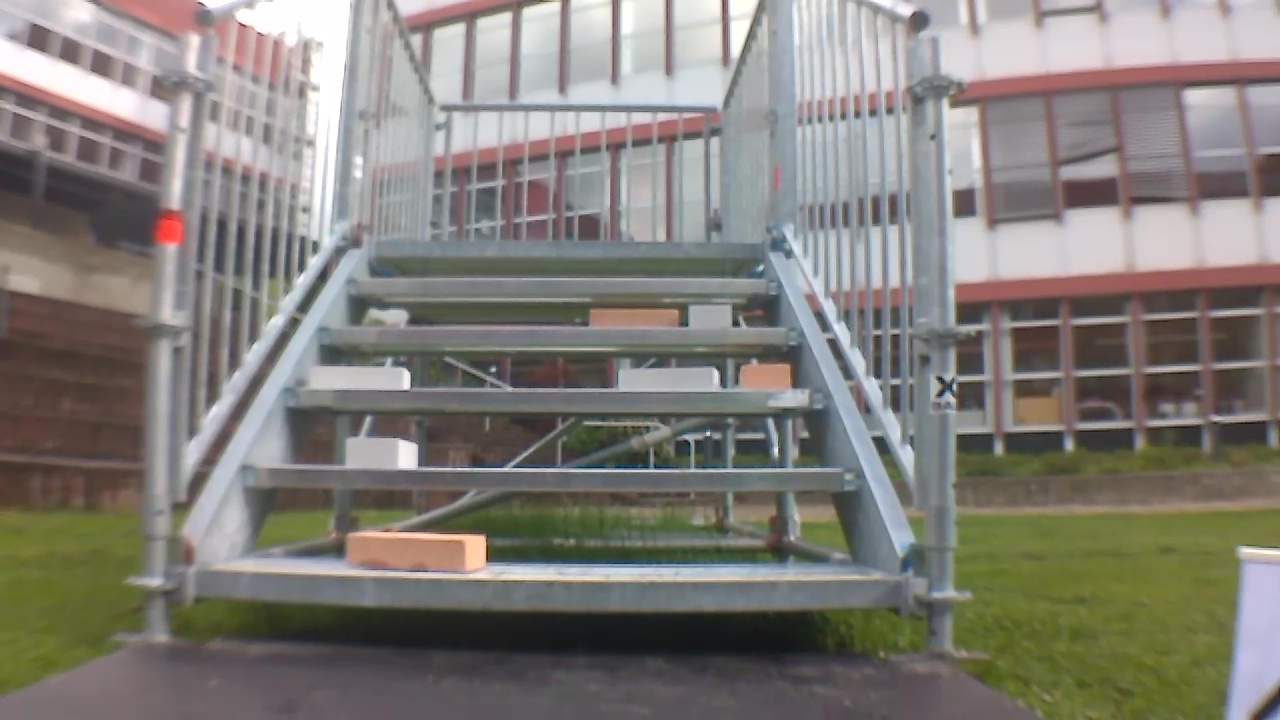brick: (348, 531, 485, 571), (309, 366, 409, 390), (620, 366, 718, 390), (345, 437, 417, 469), (592, 309, 677, 327), (741, 366, 789, 388), (691, 304, 729, 328)
edge: (191, 568, 901, 609), (244, 466, 859, 491), (286, 389, 828, 410), (319, 326, 800, 345), (348, 276, 783, 293), (377, 240, 761, 257)
stairs: (119, 7, 981, 661)
steps: (179, 237, 918, 618)
